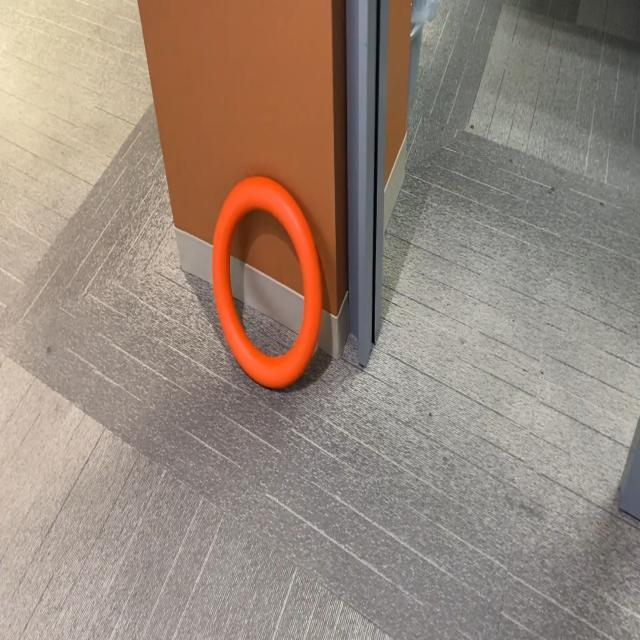note: (210, 173, 324, 393)
